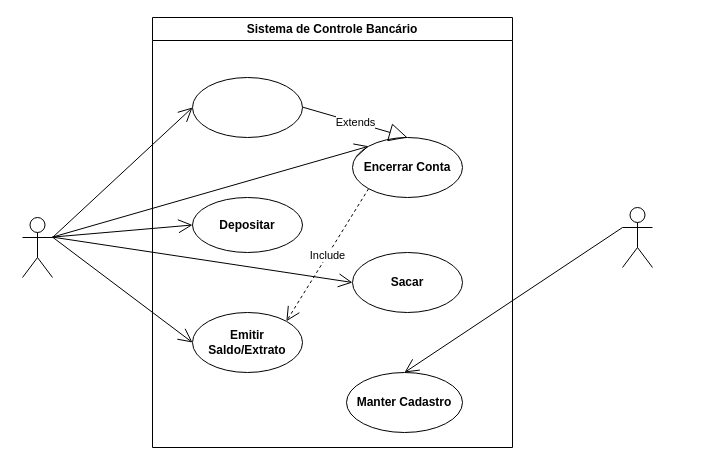
This 718x465 diagram has some shape labels left out. The centre of each missing label's shape, as x and y in pixels:
Abrir Conta: point (247, 107)
Cliente: point (37, 247)
Funcionário do Banco: point (637, 237)
